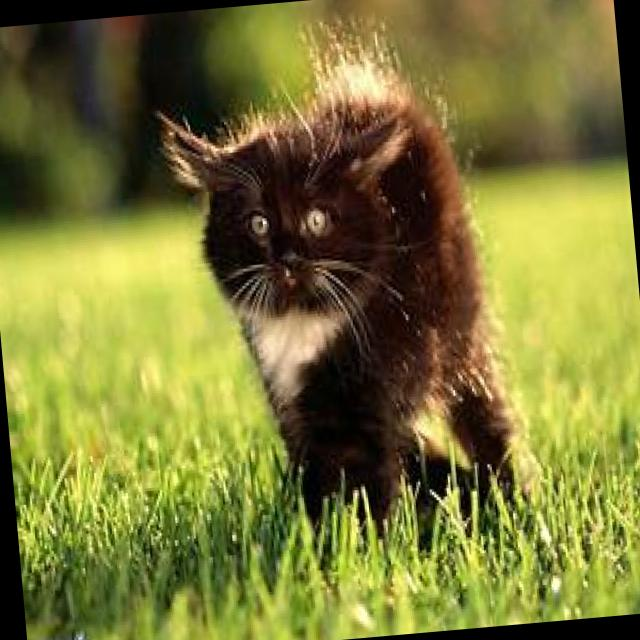animal: (142, 42, 549, 536)
